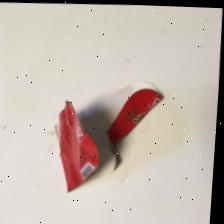paper: (42, 69, 188, 178)
